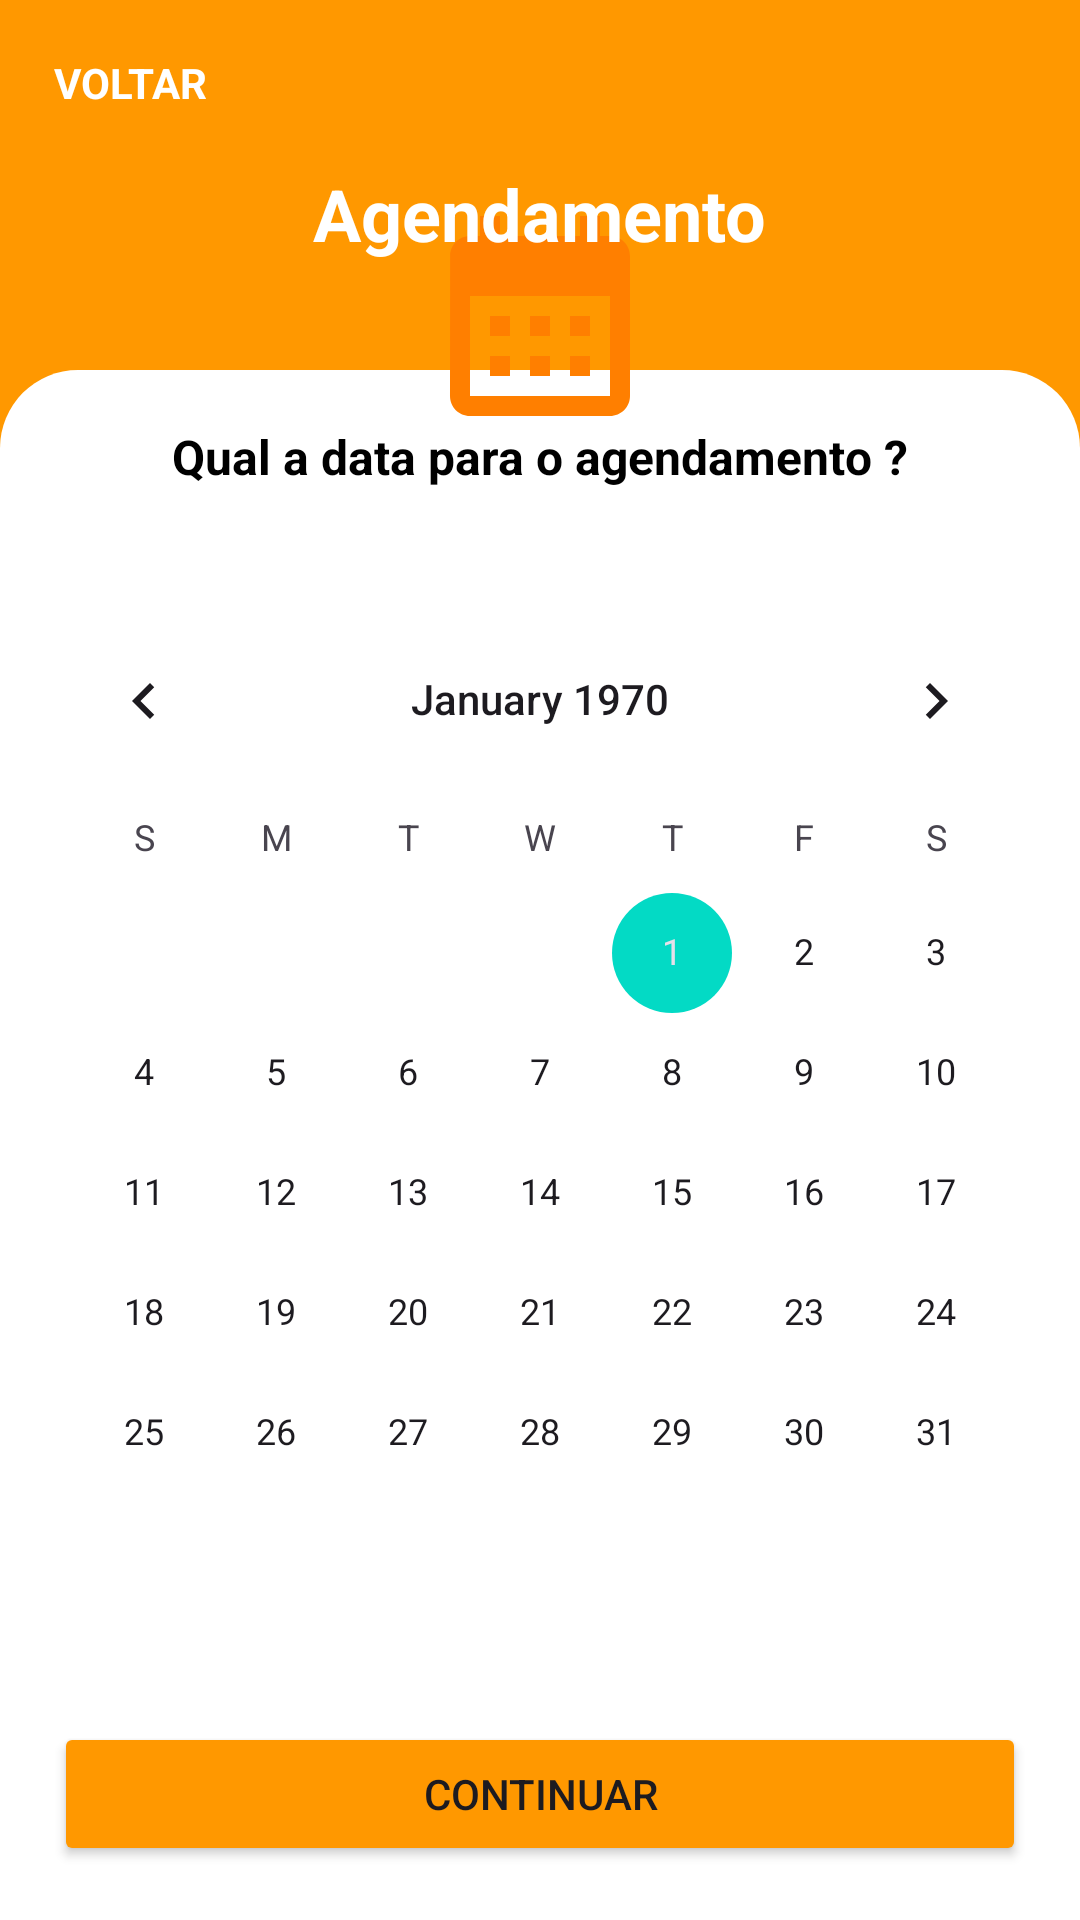

Icon click points for this 1080 × 1920 phone screenshot, format (x=x, y=y):
calendar month: (x=540, y=316)
